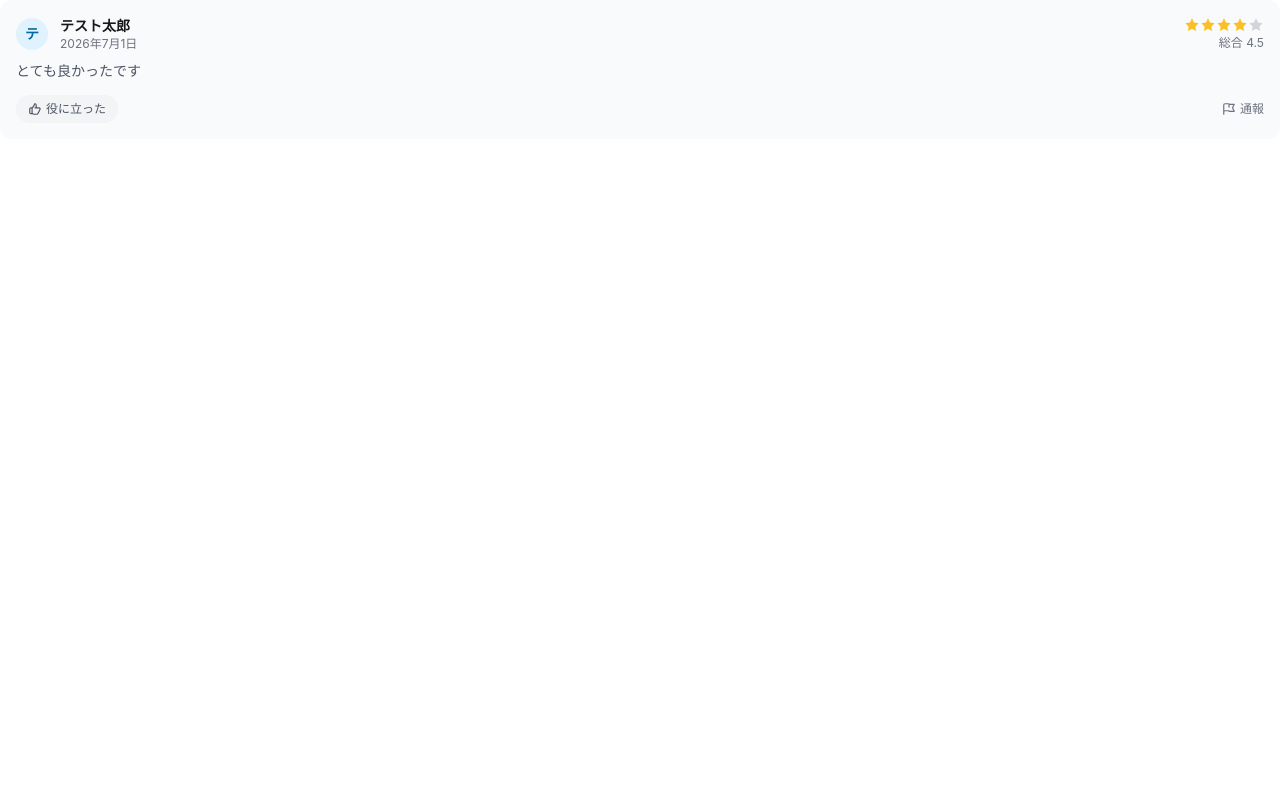
it: 通報 API が 401 を返した場合（セッション失効等）、ログイン誘導ダイアログとエラーTOASTを表示する
Click the button with aria-label "この口コミを通報する" at [1243, 109], box [1222,101,1264,117]
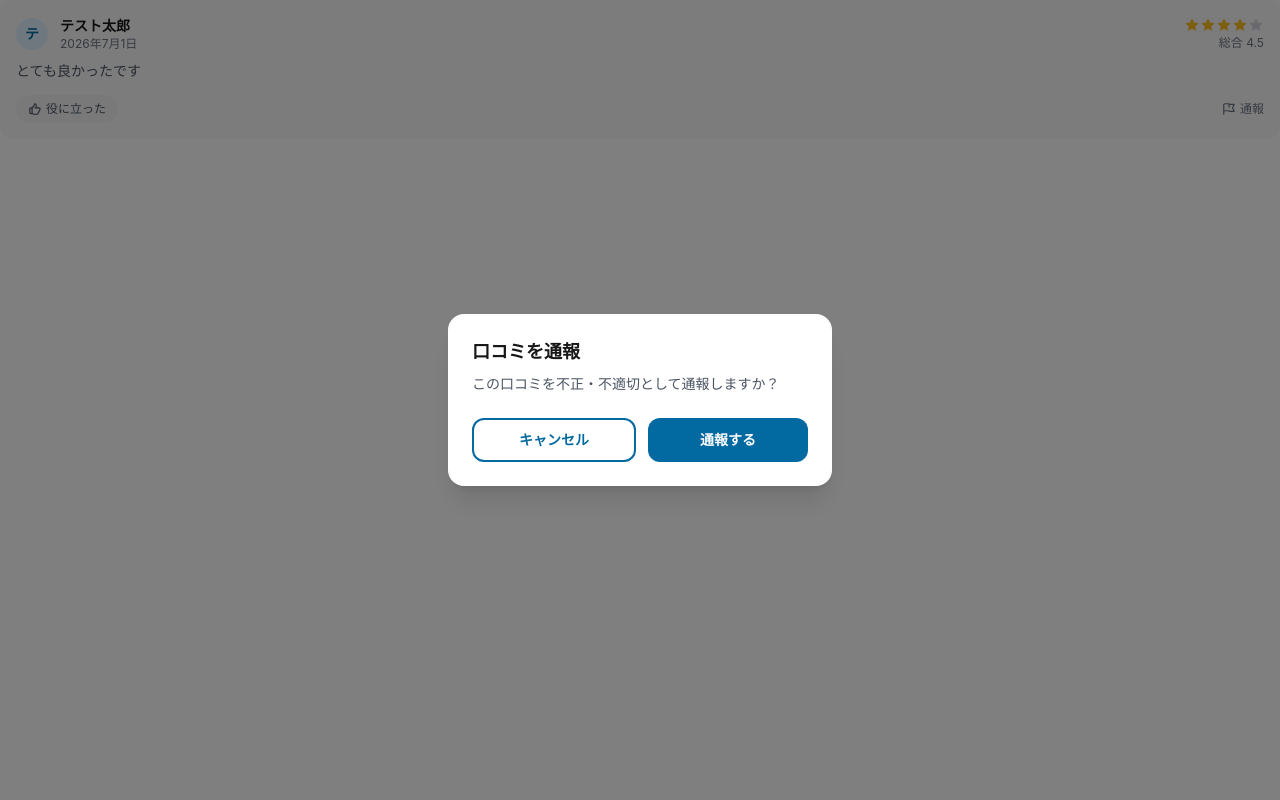
Expected: the text "この口コミを不正・不適切として通報しますか？" is shown, [472,374,808,394]
Click the button "通報する" at [728, 440], box [648,418,808,462]
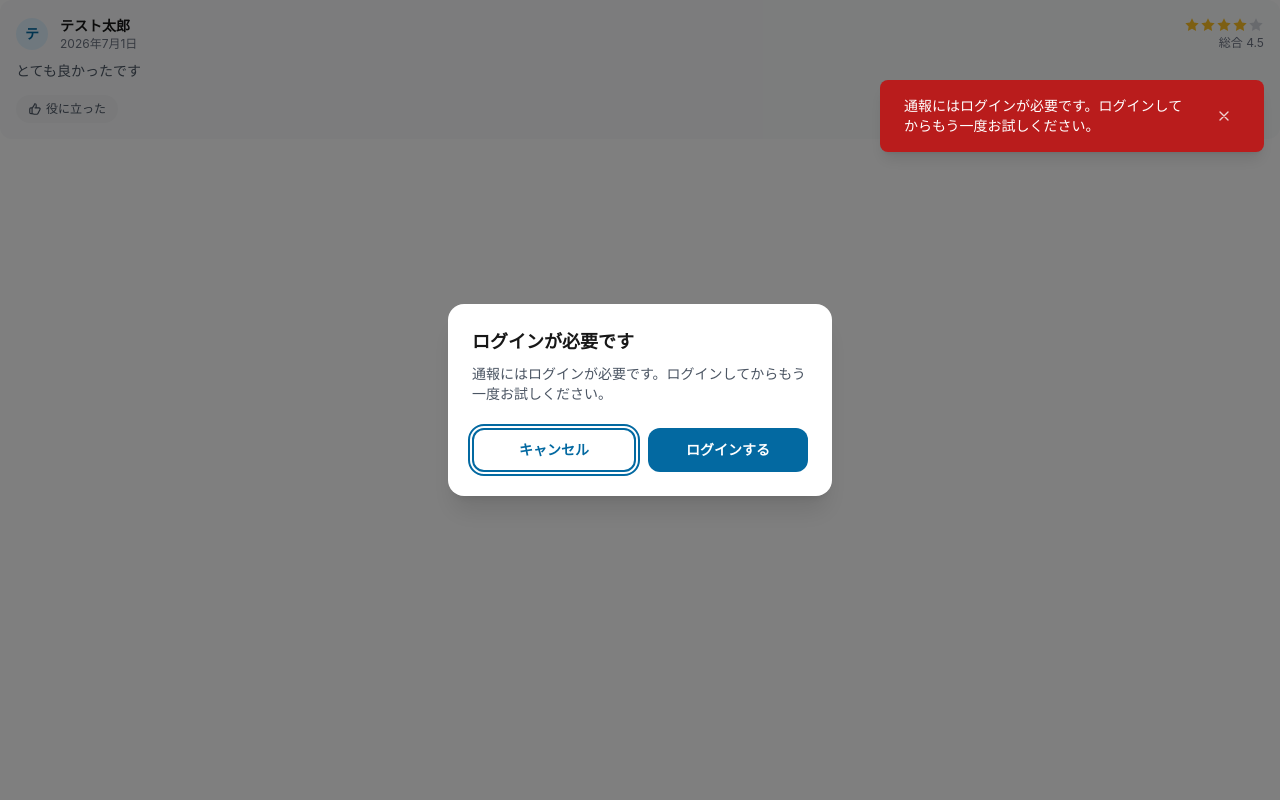
Expected: the heading "ログインが必要です" is shown, [472,331,634,352]
